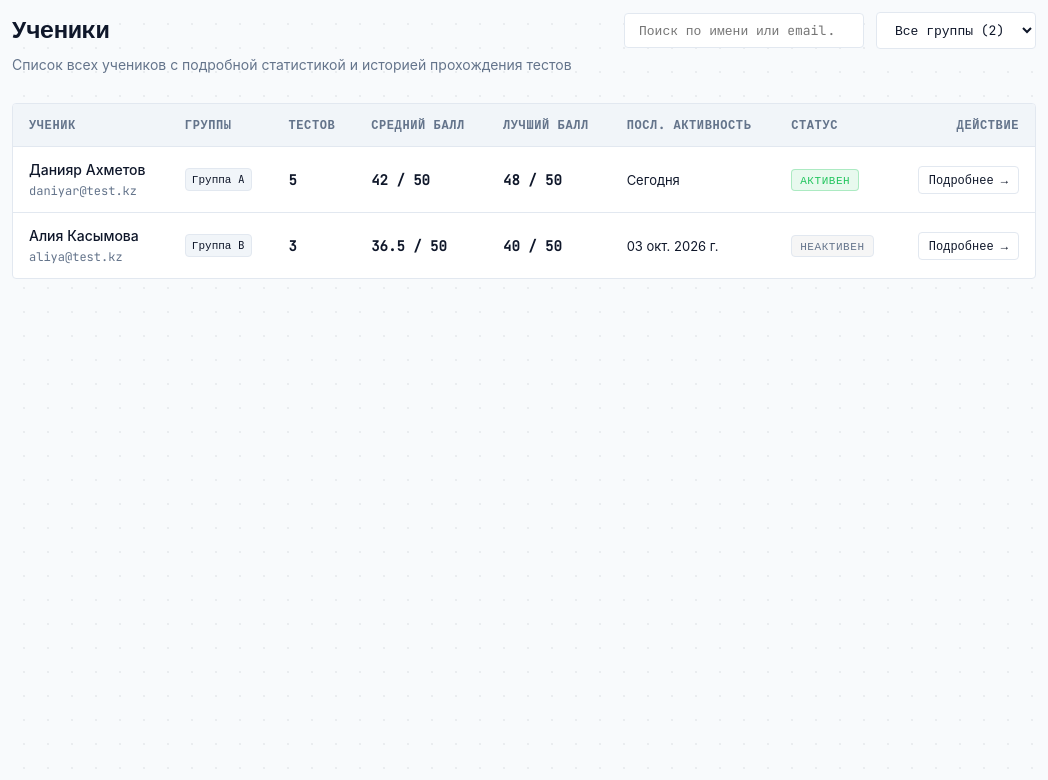
Scenario: TeacherStudentsPage › renders student list and filters by search query
Expected: the text "Данияр Ахметов" is shown, [29,159,153,180]
Expected: the text "Алия Касымова" is shown, [29,225,153,246]
# Filter by search
Type "Данияр" into the search field.
click(744, 30); type("Данияр")  # box [624,13,864,48]
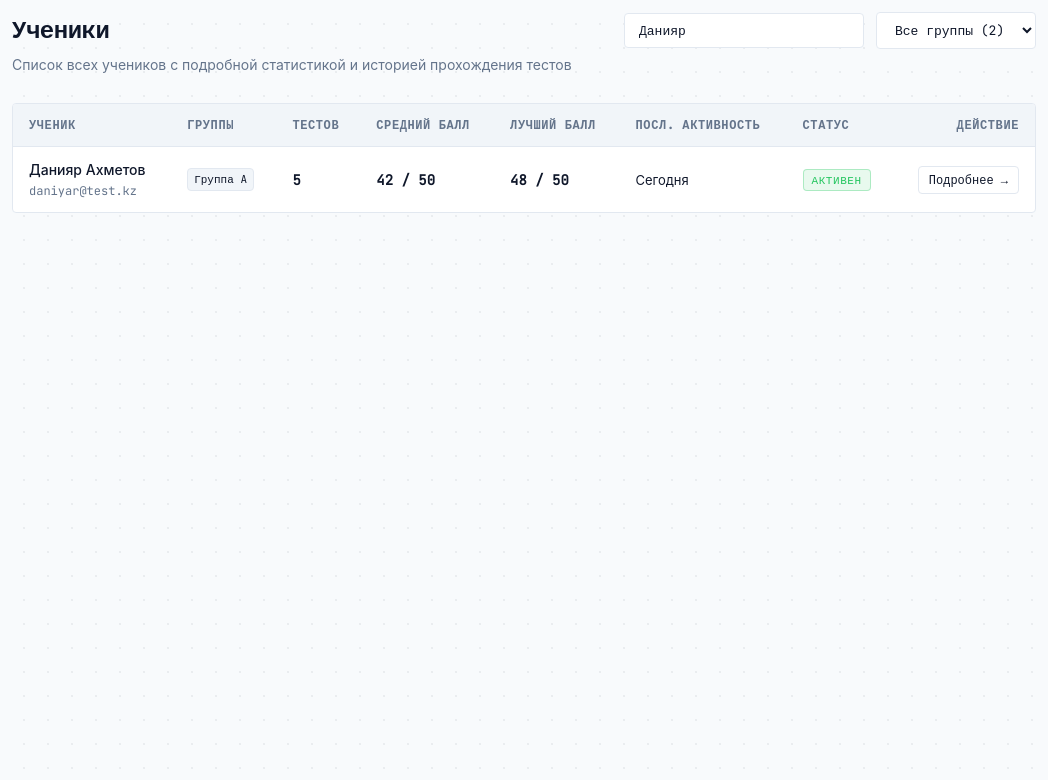
Expected: the text "Данияр Ахметов" is shown, [29,159,155,180]
Expected: the text "Алия Касымова" is gone
